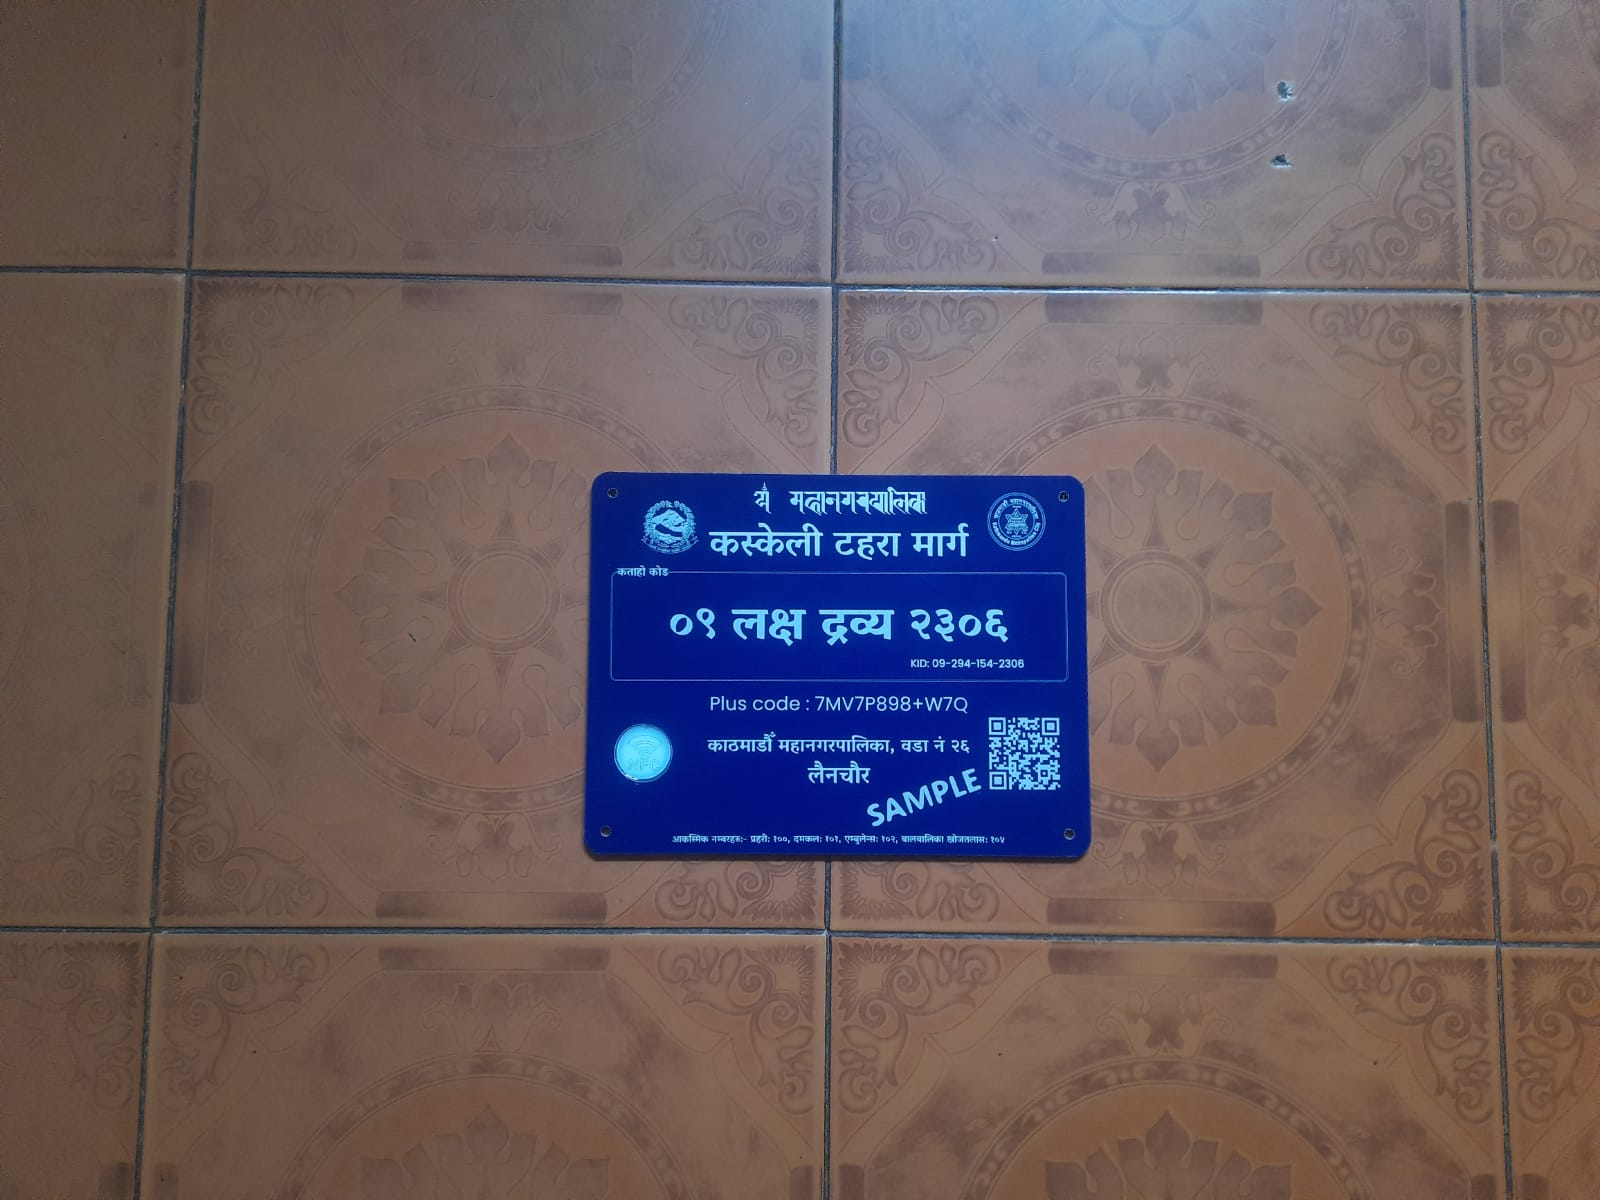Plate: (584, 464, 1097, 869)
